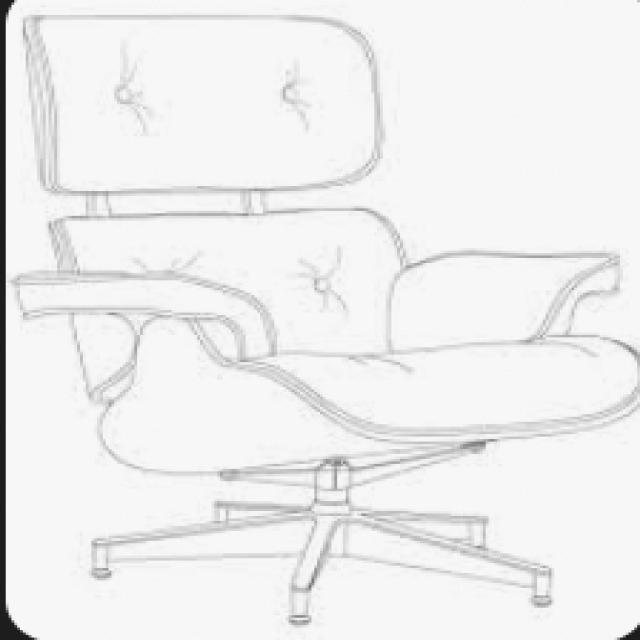Backrest: (40, 204, 415, 361)
Eames_base: (79, 498, 566, 630)
Eames_lounge: (9, 263, 286, 367), (381, 246, 624, 356)
Headrest: (21, 11, 384, 202)
Seat: (93, 307, 637, 478)
